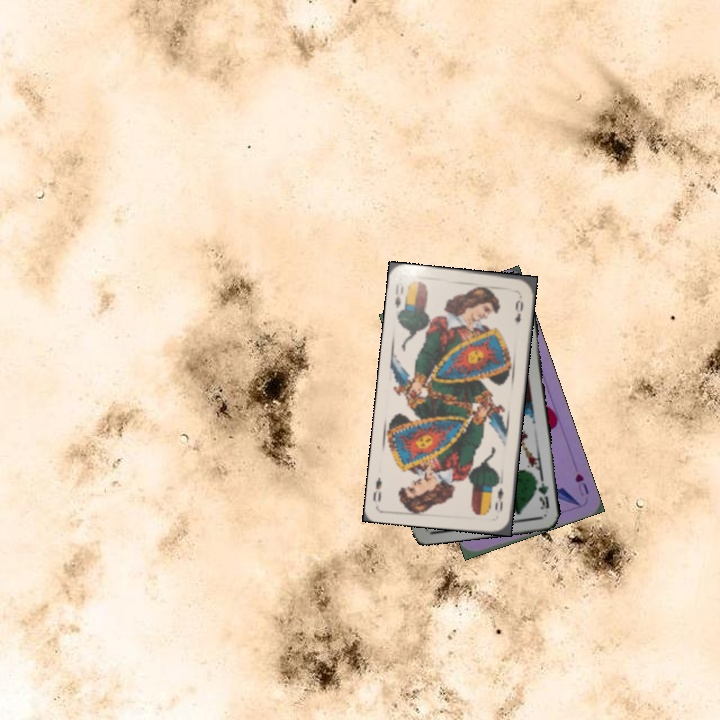EO: (391, 278, 406, 311), (491, 484, 506, 514)
GK: (531, 474, 552, 512)
HU: (571, 469, 591, 499)
